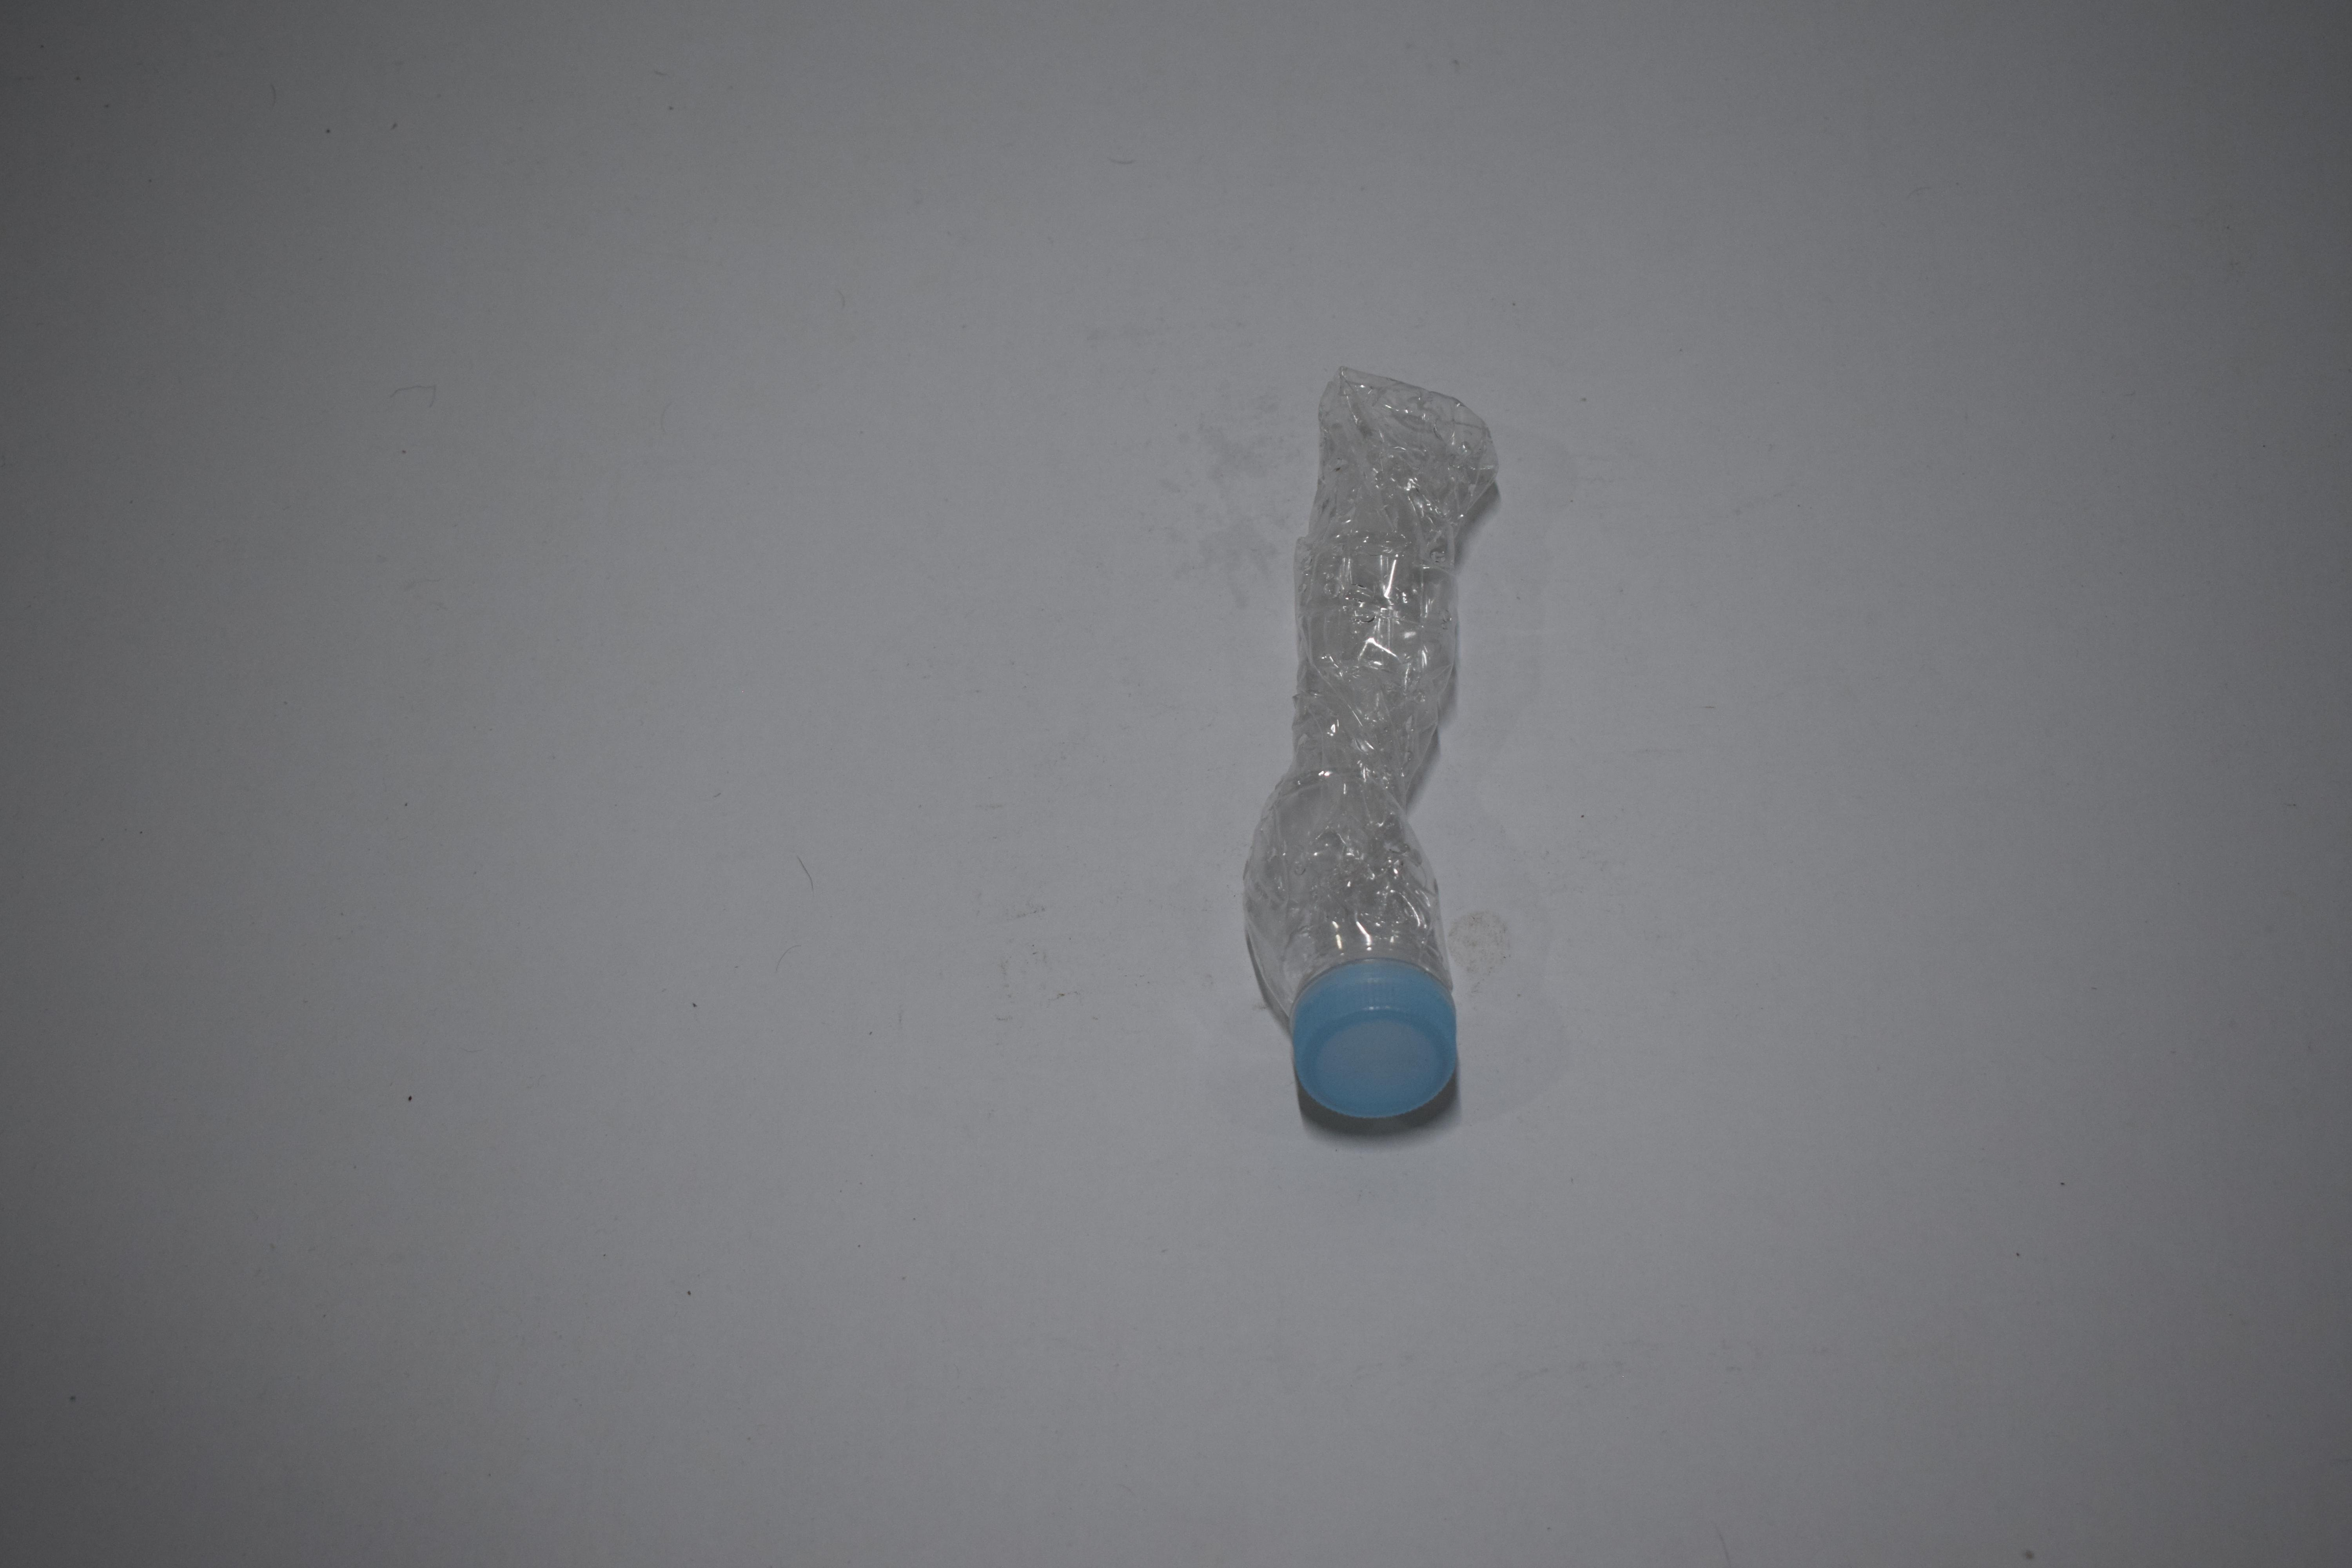bottle: (59, 364, 325, 1132)
